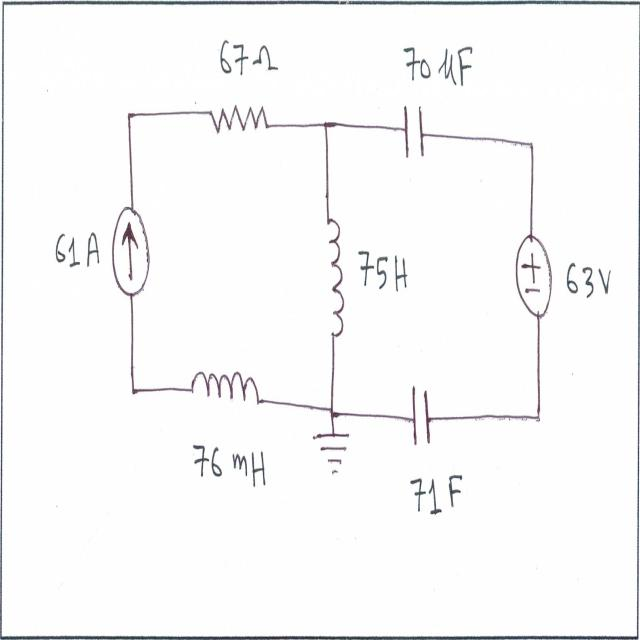capacitor: (397, 97, 429, 166), (406, 379, 435, 453)
current_source: (110, 190, 155, 304)
ground: (309, 421, 354, 482)
inductor: (184, 364, 268, 422), (323, 206, 348, 352)
resistor: (206, 103, 269, 141)
voltage_source: (512, 227, 556, 333)
